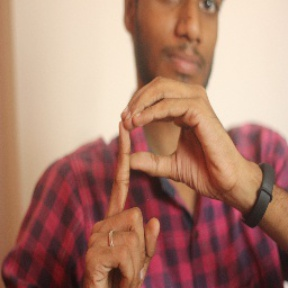P: (80, 73, 242, 273)
